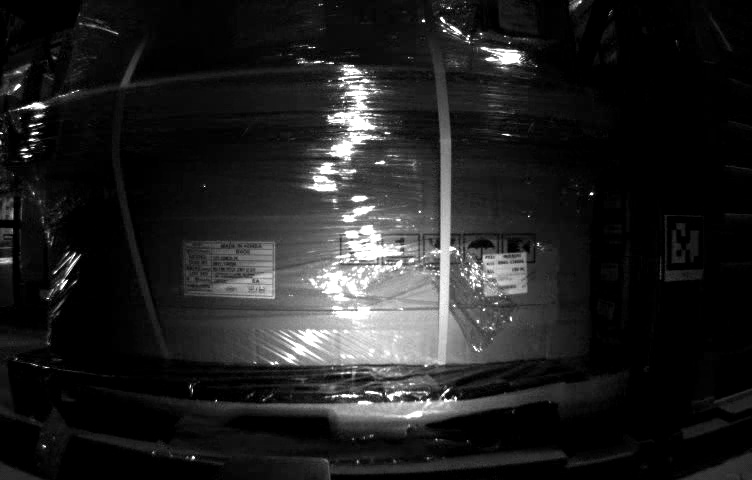True Barcode: (481, 252, 529, 295)
